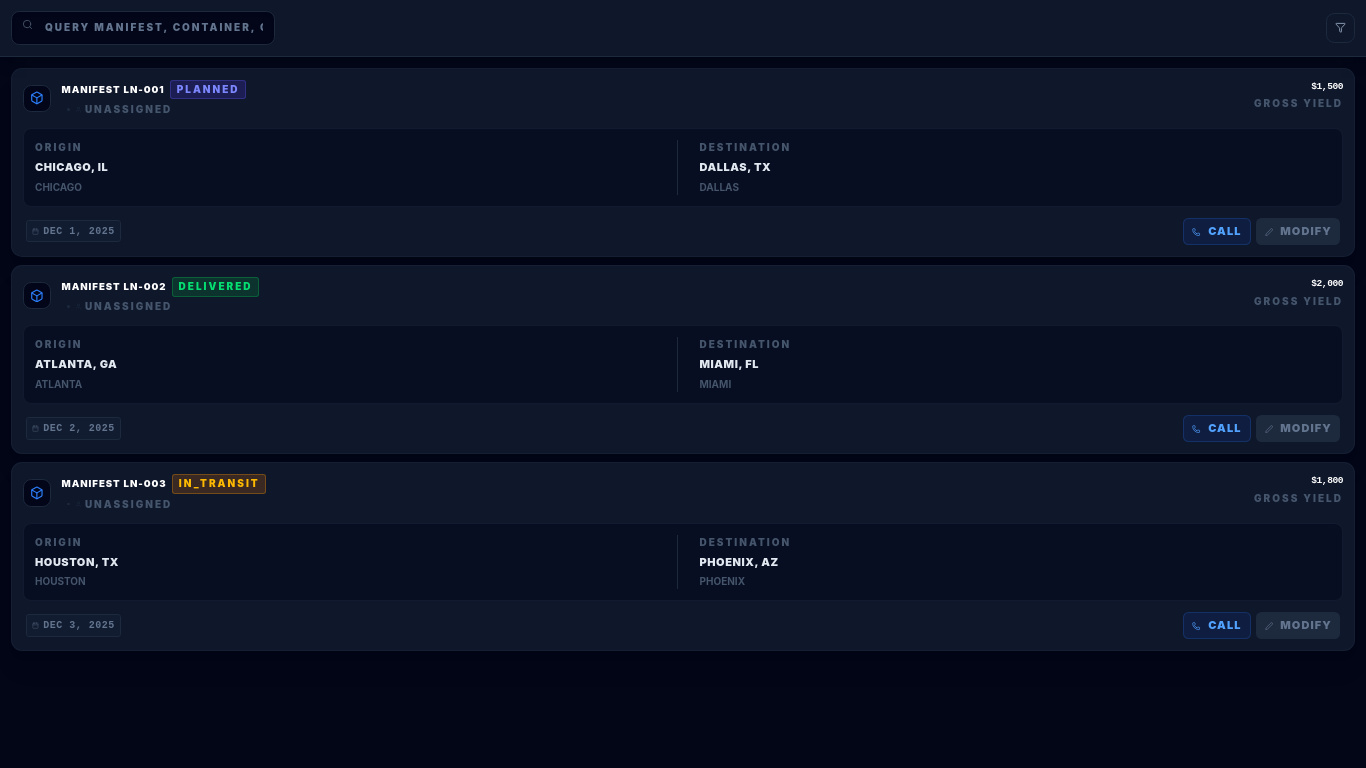
Test: LoadList component › filters loads by city name search (lines 82-86)
The image size is (1366, 768).
Type "Atlanta" into the field.
click(143, 28); type("Atlanta")  # box x1=11 y1=11 x2=275 y2=44
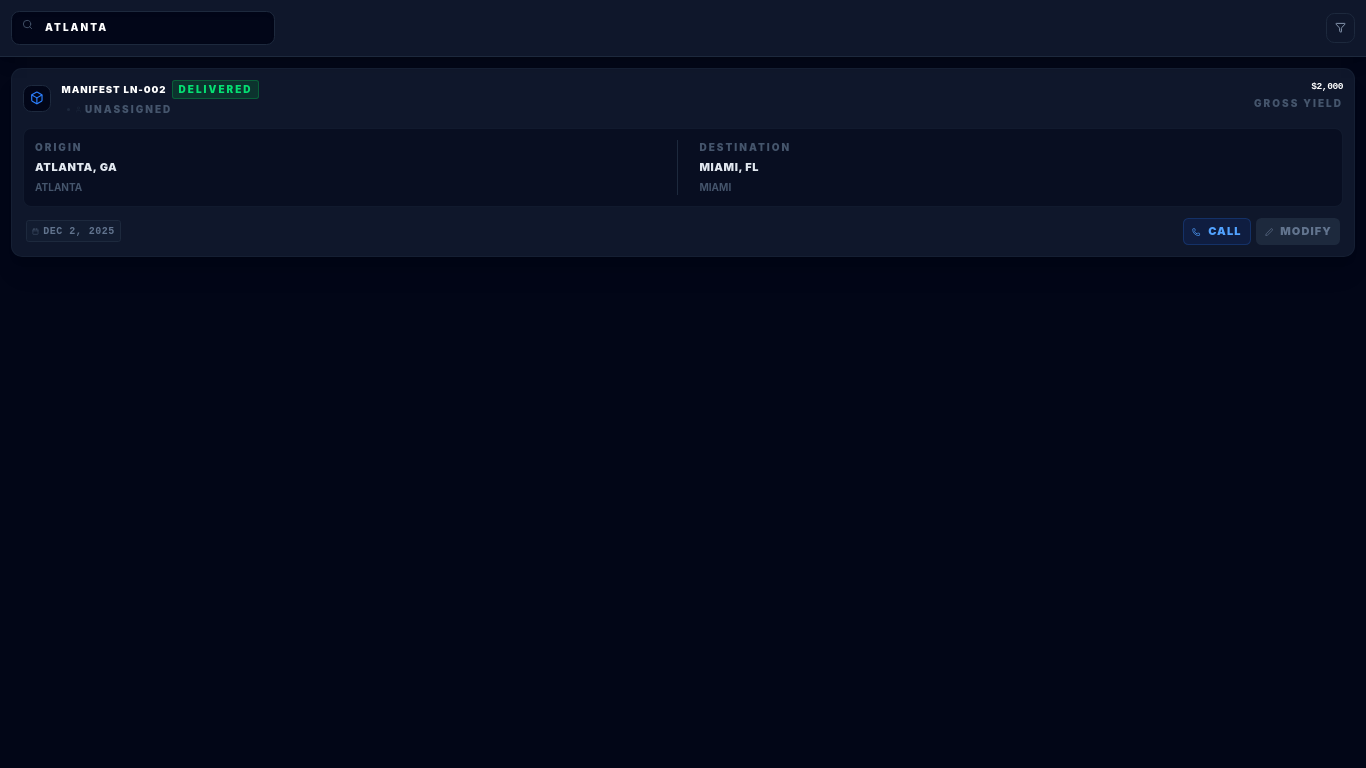
Check: the text "Manifest LN-002" is shown, box x1=62 y1=82 x2=166 y2=96
Check: the text "LN-001" is gone
Check: the text "LN-003" is gone
